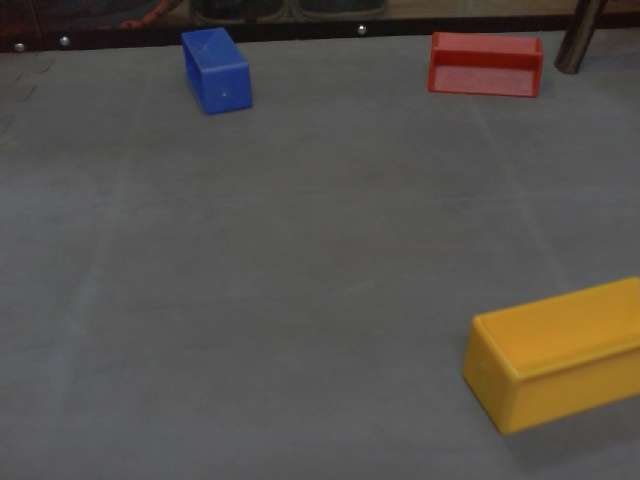BlueSample: (180, 25, 255, 115)
RedSample: (427, 29, 546, 101)
YellowSample: (460, 271, 640, 437)
